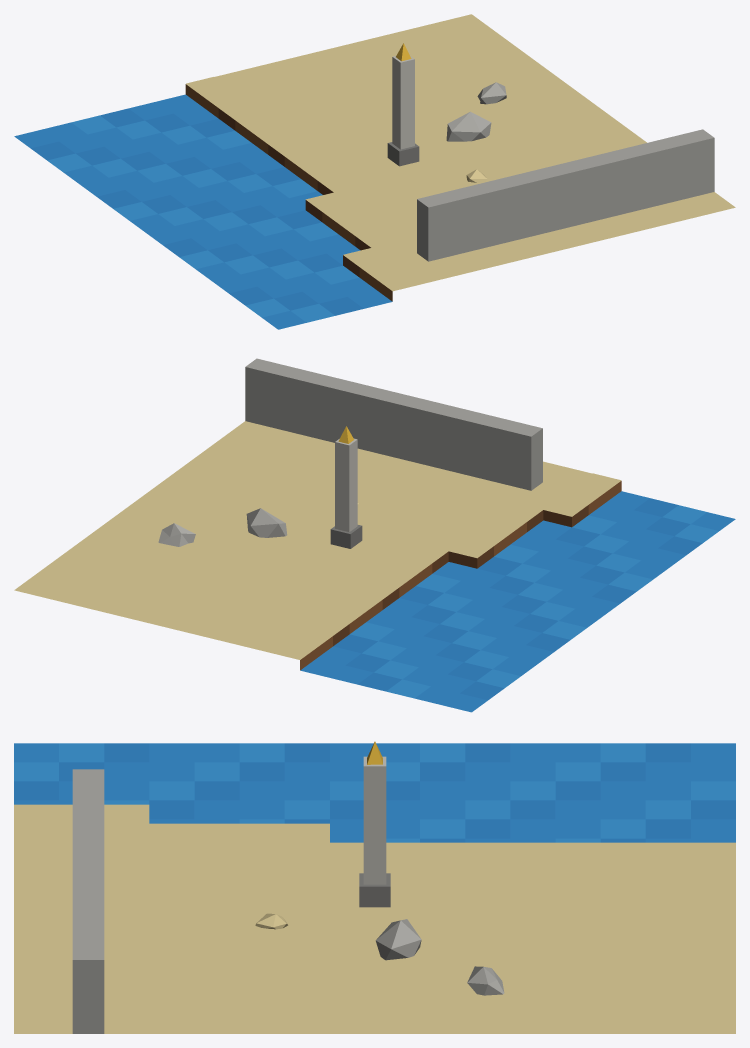
Rendered from chunk_4_20.glb.
The picture shows the model from 3 angles, top to bottom: view 1: azimuth 30°, elevation 25°; view 2: azimuth 150°, elevation 25°; view 3: azimuth 270°, elevation 25°; orthographic projection. The views are drawn at different scales.
Visible parts, largest first — view 1: chunk_4_20; view 2: chunk_4_20; view 3: chunk_4_20.
Boxes of the visible parts, <box> form: chunk_4_20: <box>14,14,735,329</box>; chunk_4_20: <box>14,358,735,712</box>; chunk_4_20: <box>14,741,735,1033</box>.
Size of the model in its own units: 16 by 4.27 by 16.
